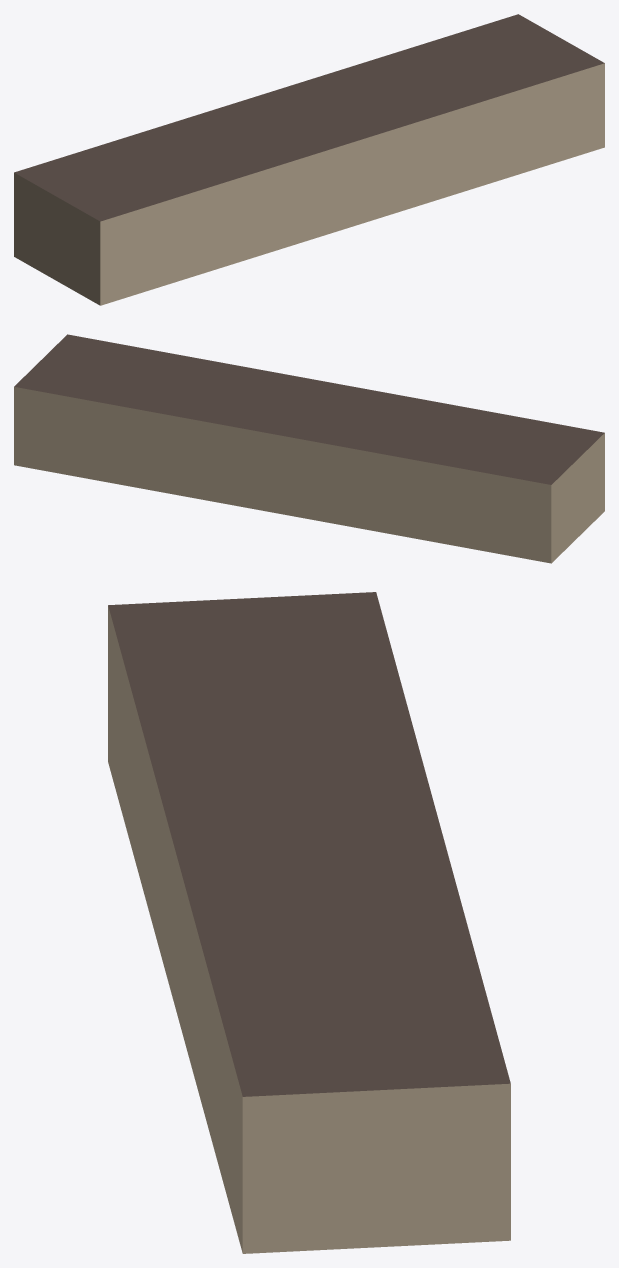
The picture shows the model from 3 angles, top to bottom: view 1: azimuth 30°, elevation 25°; view 2: azimuth 150°, elevation 25°; view 3: azimuth 270°, elevation 25°; orthographic projection. The views are drawn at different scales.
Visible parts, largest first — view 1: HP-w859424237; view 2: HP-w859424237; view 3: HP-w859424237.
Boxes of the visible parts, x1,y1,x2,y2 form: HP-w859424237: (14,14,604,305); HP-w859424237: (14,334,604,563); HP-w859424237: (108,592,510,1253).
Size of the model in its own units: 62.07 by 9 by 20.92.
